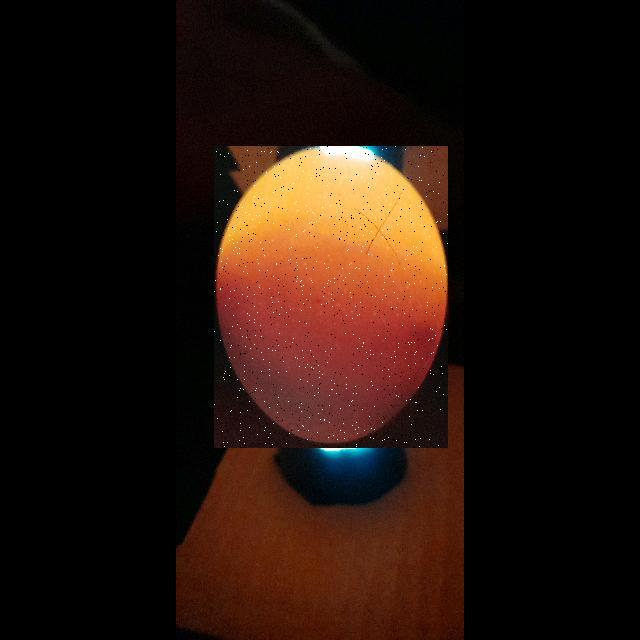Infertile: (214, 146, 448, 448)
